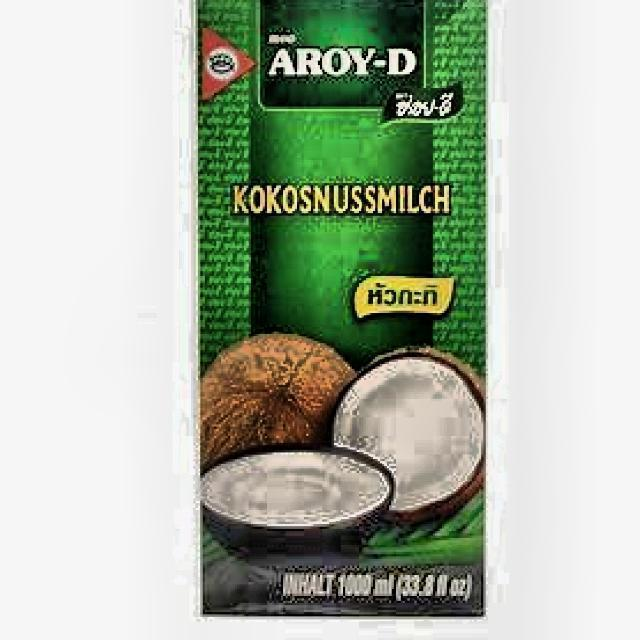cardboard: (193, 0, 488, 617)
